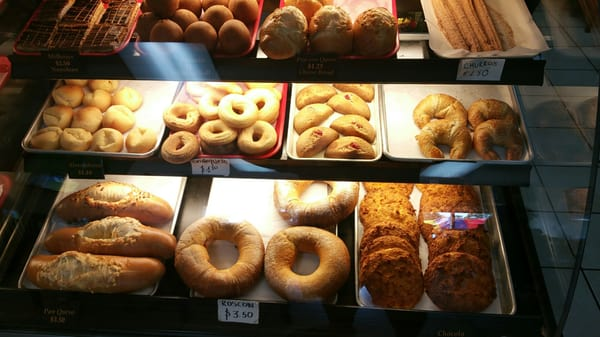salad: (174, 217, 266, 297), (263, 226, 351, 303), (24, 249, 166, 295), (55, 181, 174, 228), (74, 215, 175, 260), (423, 251, 495, 311), (276, 181, 359, 228), (361, 251, 424, 310), (352, 9, 399, 58), (309, 5, 353, 56), (473, 119, 526, 160), (237, 120, 279, 157), (218, 93, 259, 130), (198, 119, 238, 155), (295, 126, 340, 158), (161, 131, 200, 164), (163, 102, 203, 134), (324, 136, 377, 160), (327, 91, 372, 119), (60, 127, 93, 152)
